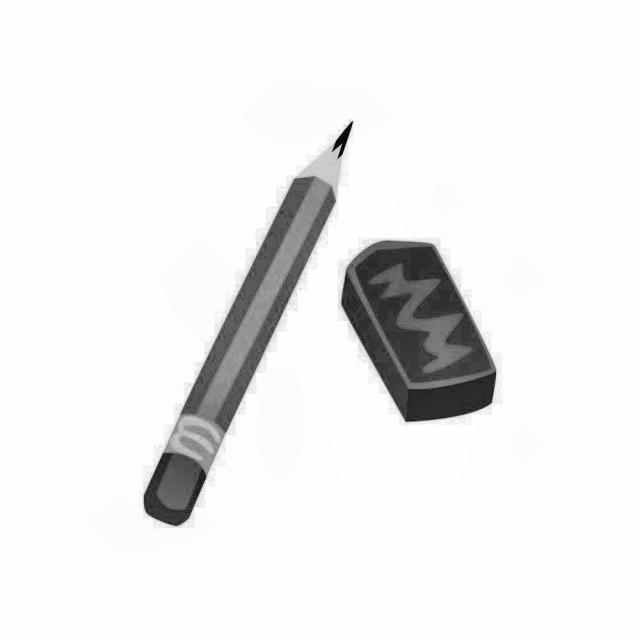eraser: (338, 237, 501, 427)
